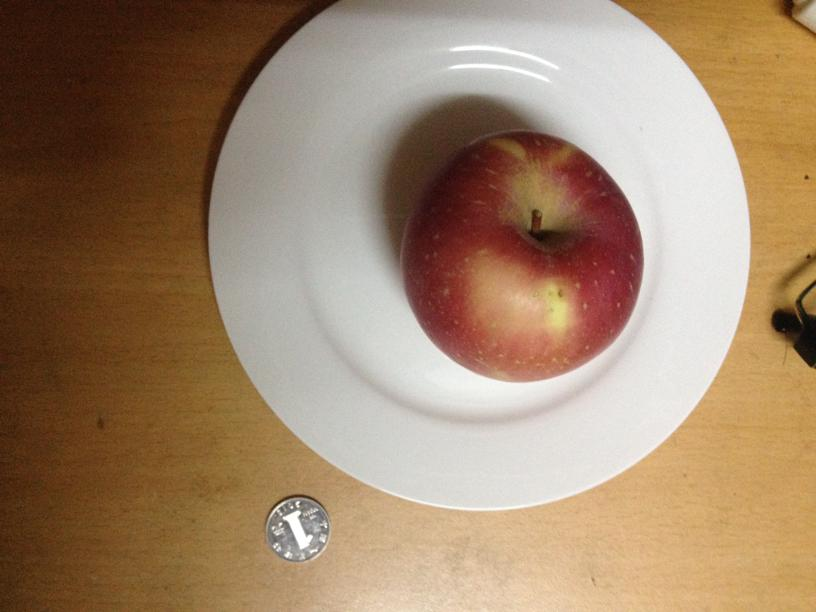apple: (393, 126, 644, 383)
coin: (262, 493, 329, 563)
